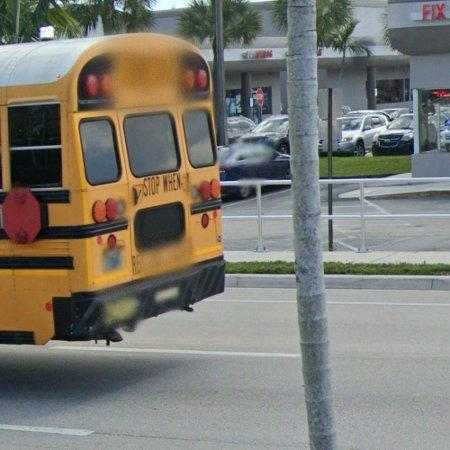buses: (0, 33, 224, 346)
